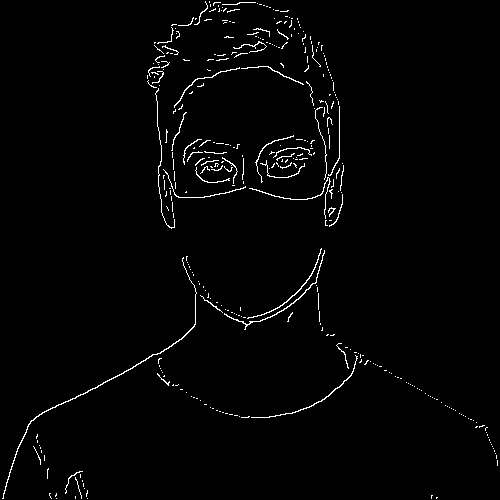mask: (149, 183, 348, 330)
